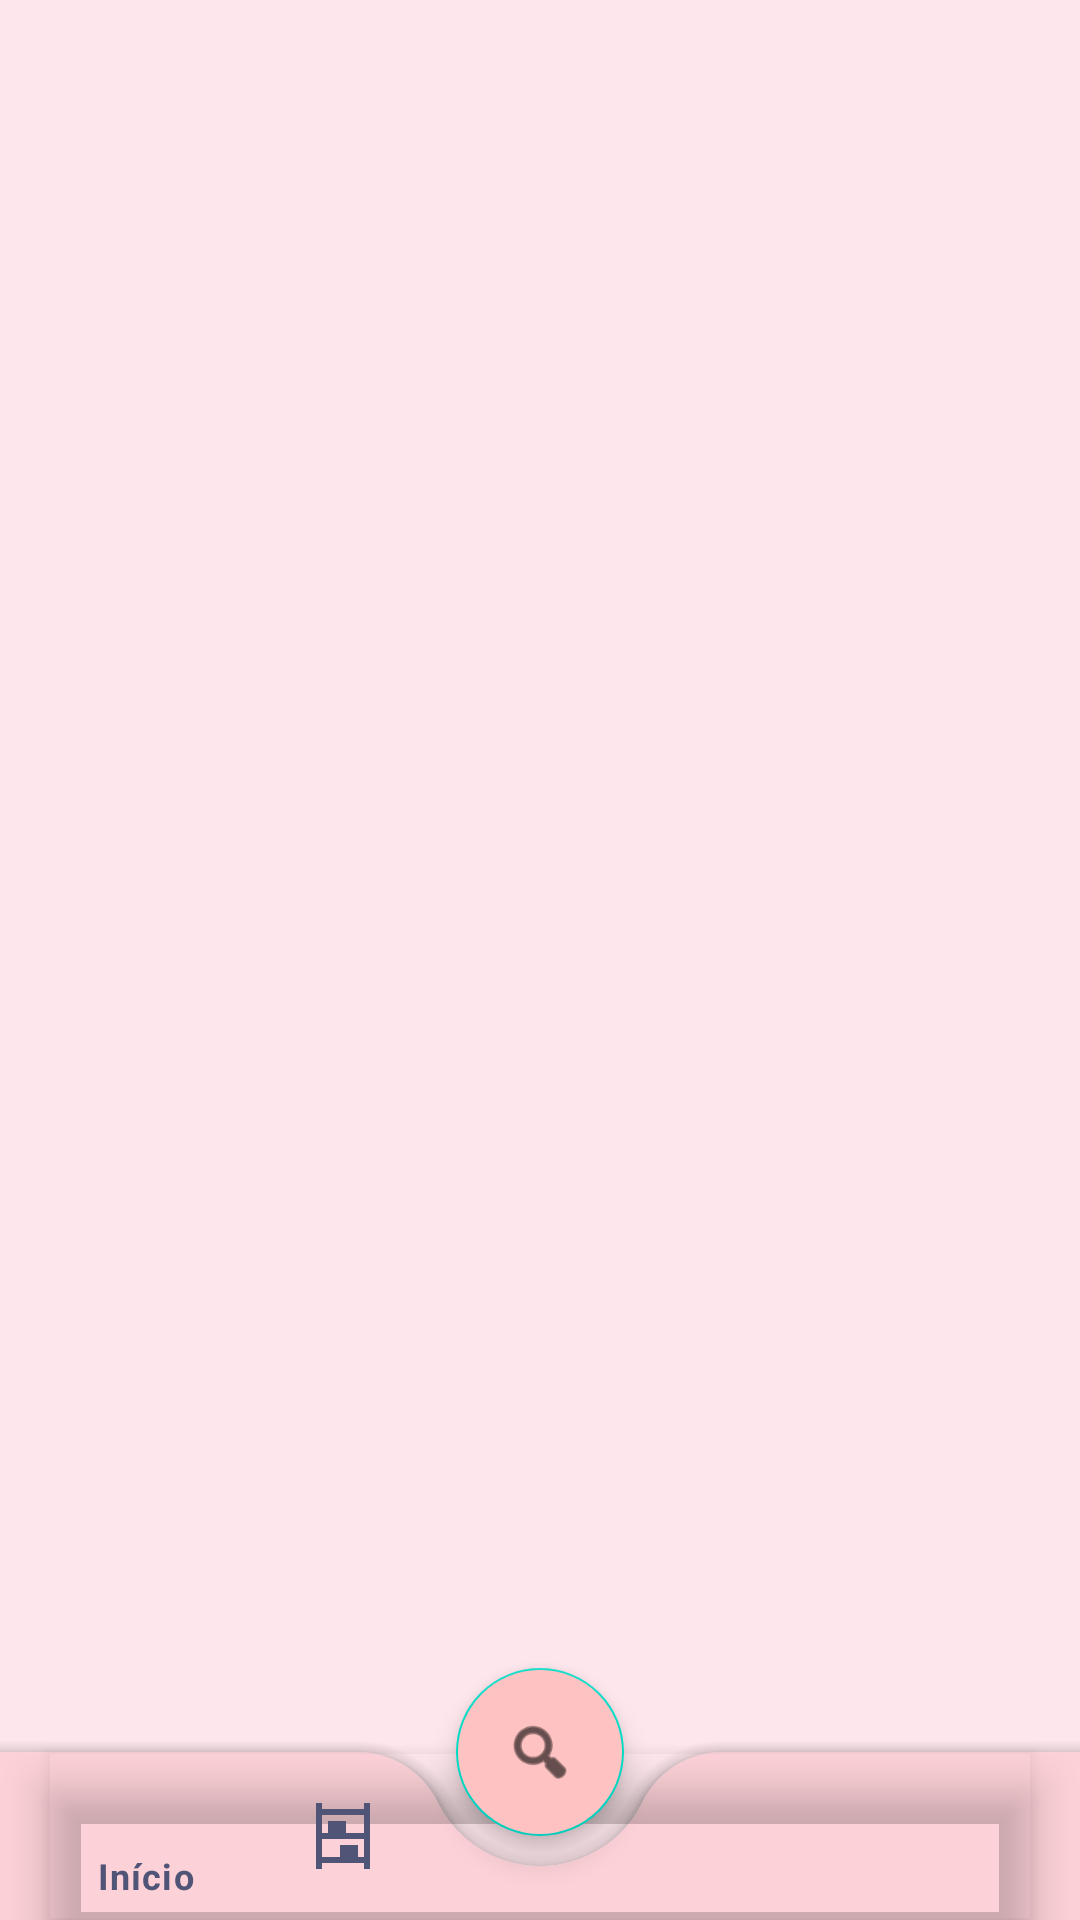

Icon bounding boxes for this 1080 × 1920 phone screenshot, format (x1, y1, x2, y2):
search: (456, 1668, 624, 1836)
